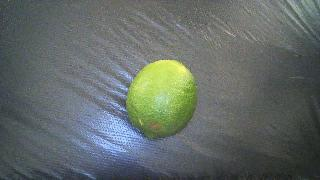DESECHO: (126, 60, 197, 139)
